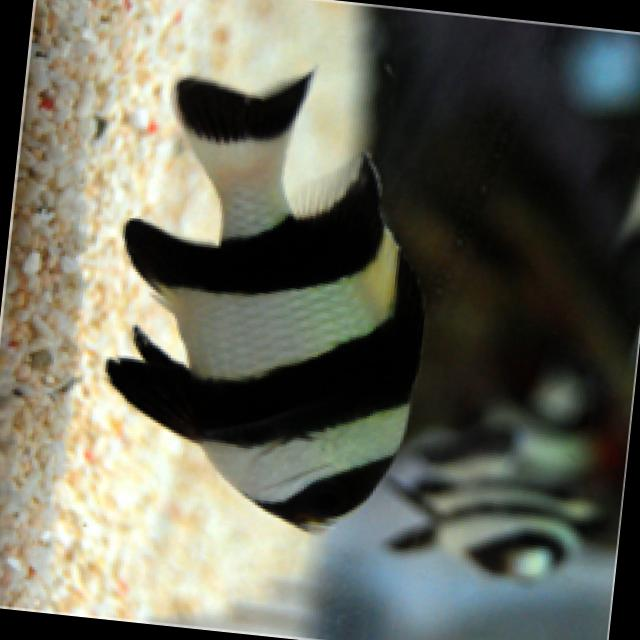ThreeStripedDamselfish: (102, 69, 422, 535)
